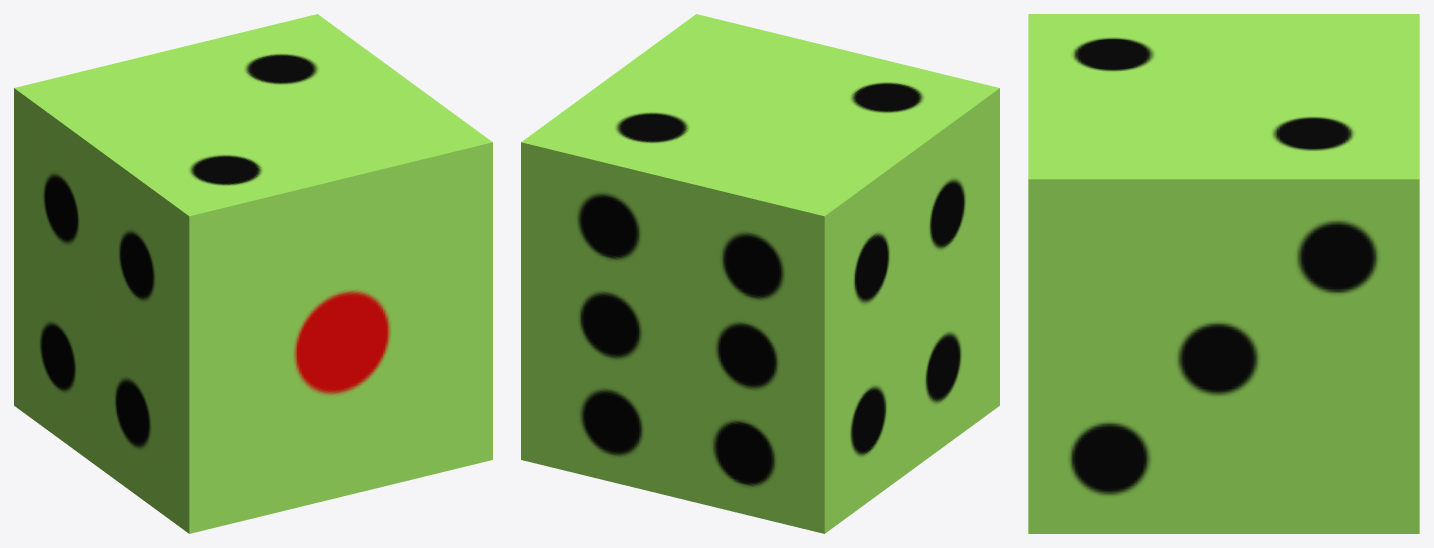
Rendered from TransparentDice.fbx.
3 views of the same model, side by side, from view 1: azimuth 30°, elevation 25°; view 2: azimuth 150°, elevation 25°; view 3: azimuth 270°, elevation 25° (orthographic). The views are drawn at different scales.
Parts seen in each view (by area): view 1: polySurface4; view 2: polySurface4; view 3: polySurface4.
Part boxes in pixels (bbox=[...]): polySurface4: bbox=[14, 14, 492, 533]; polySurface4: bbox=[521, 14, 999, 533]; polySurface4: bbox=[1028, 14, 1419, 533].
Size of the model in its own units: 0.01 by 0.01 by 0.01.
1 material, 1 textured.
